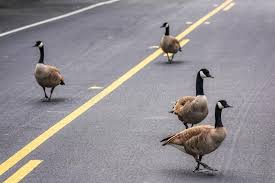goose: (160, 98, 235, 177), (168, 67, 216, 133), (29, 39, 65, 104), (156, 20, 185, 64)
